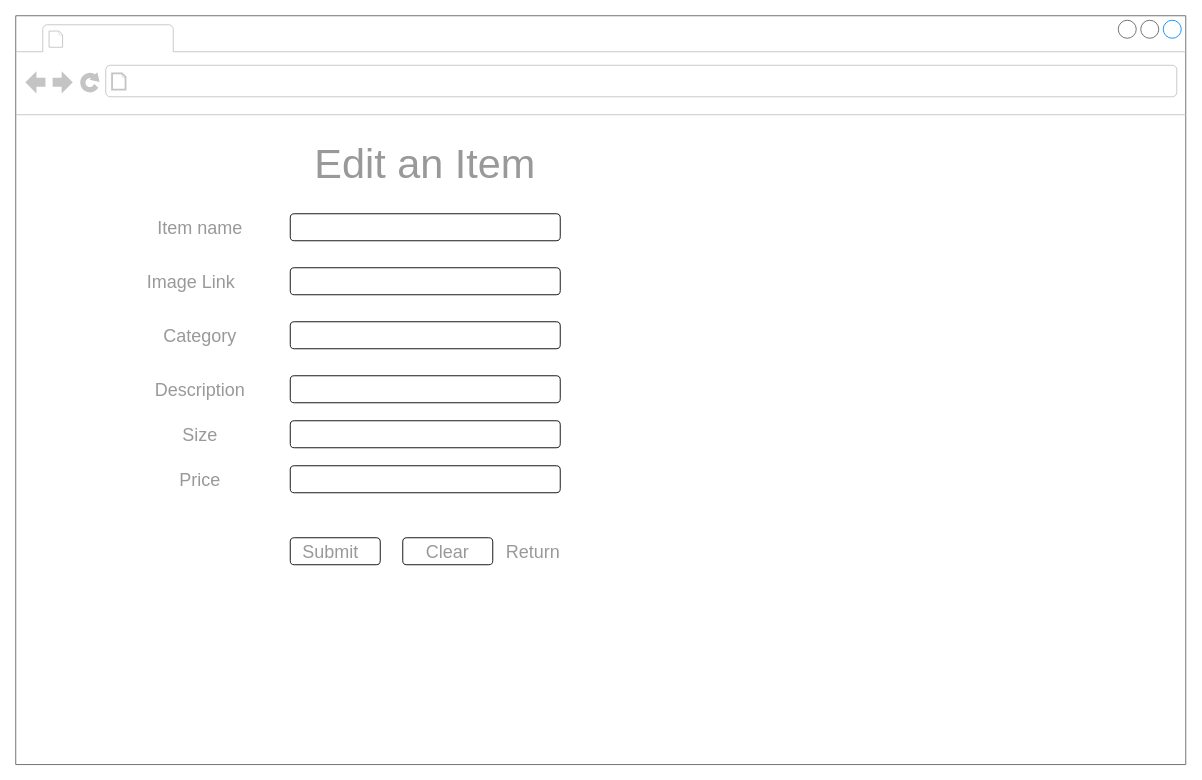
The diagram is 1202 pixels wide and 780 high, and some of its shapes have lost their labels. The shapes that lost their labels are listed below. From the top down, each one's box as (x1, y1, x2, y2) in pixels, then its label:
(69, 26, 169, 50): Page 1
(132, 69, 358, 93): https://www.default.com
